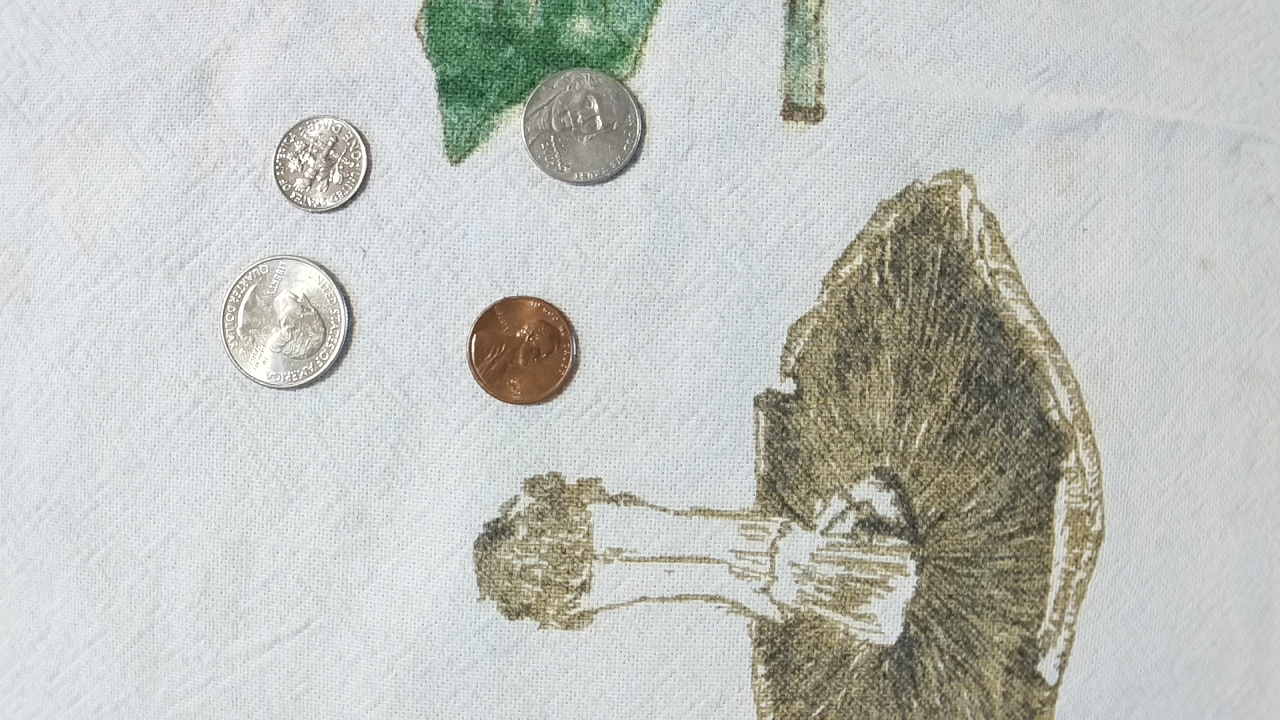dime: (268, 112, 374, 214)
nickel: (519, 62, 645, 190)
penny: (464, 292, 580, 408)
quarter: (218, 254, 356, 393)
